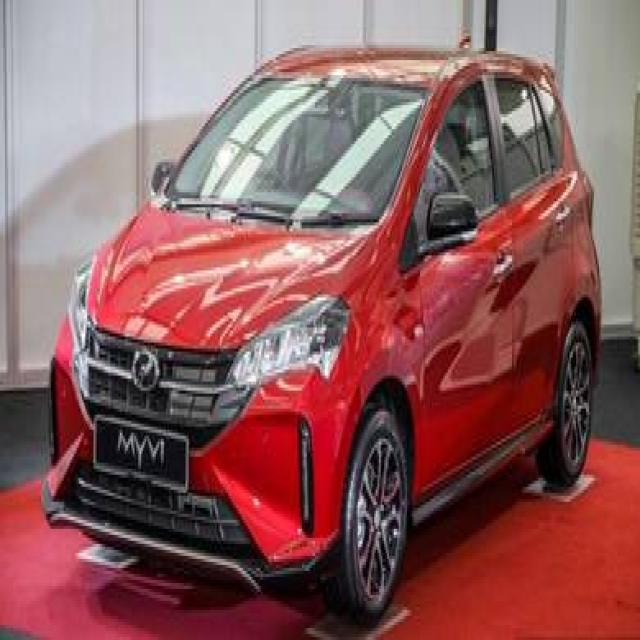PeroduaMyvi: (41, 33, 602, 619)
